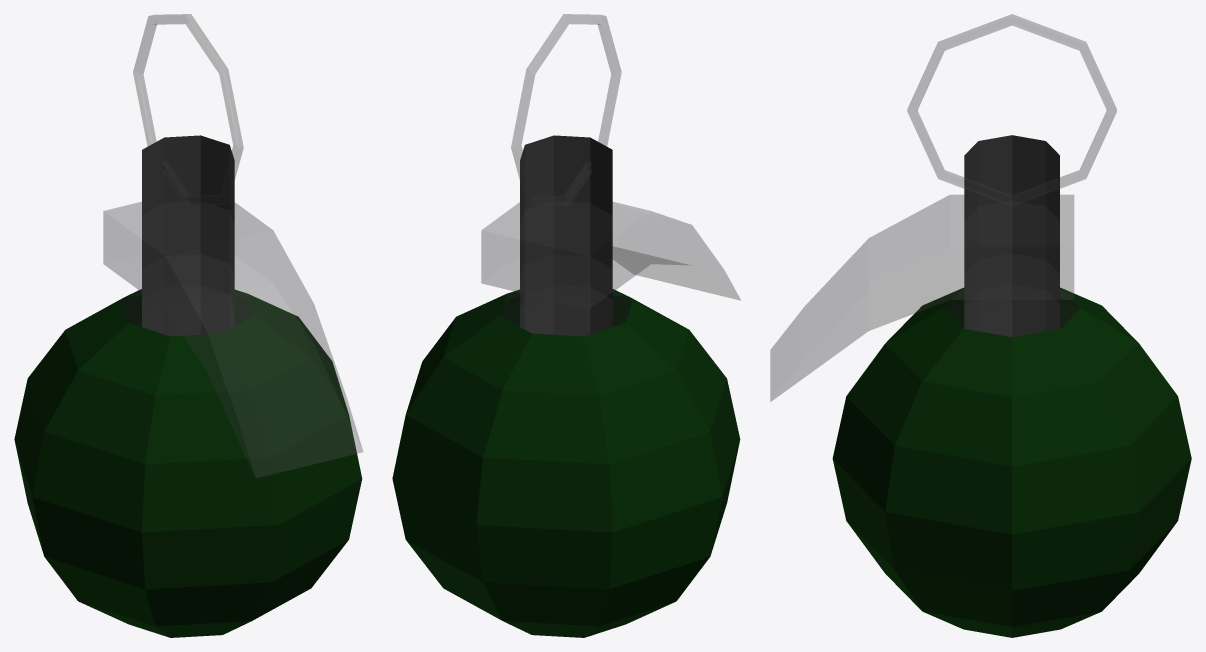
The model's file is grenade.fbx.
3 renders of one model, left to right at view 1: azimuth 30°, elevation 25°; view 2: azimuth 150°, elevation 25°; view 3: azimuth 270°, elevation 25°, orthographic.
Visible parts, largest first — view 1: 円; view 2: 円; view 3: 円.
Boxes of the visible parts, box(x1,y1,x2,y2) form: 円: box(14, 14, 362, 637); 円: box(392, 14, 740, 637); 円: box(770, 14, 1191, 637).
Bounding box in the file's own units: 752 × 1400 × 883.
